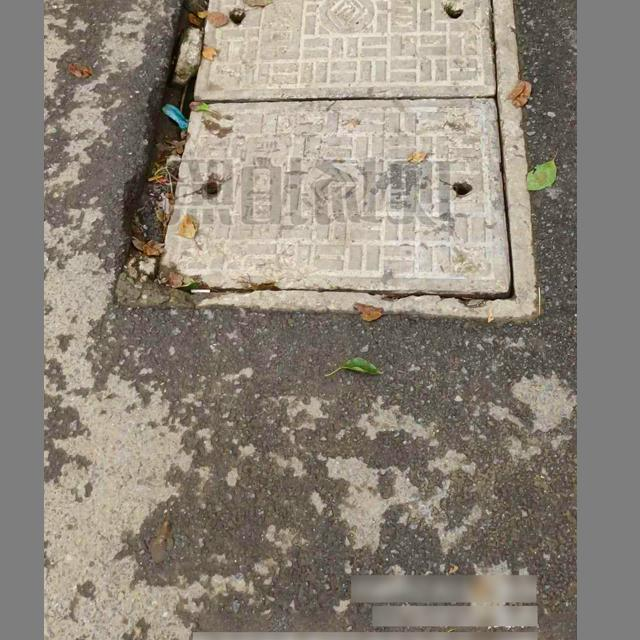circle: (111, 0, 533, 317)
